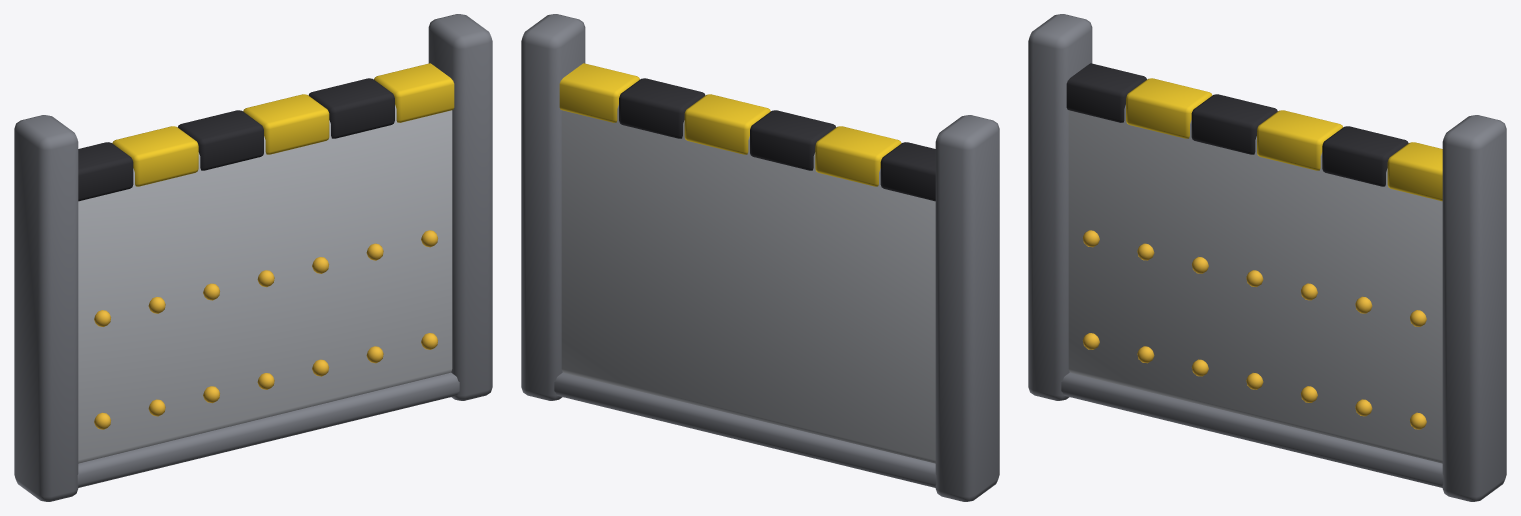
File: WallSegment.glb
3 views of the same model, side by side, from view 1: azimuth 30°, elevation 25°; view 2: azimuth 150°, elevation 25°; view 3: azimuth 330°, elevation 25° (orthographic).
Parts seen in each view (by area): view 1: WallSegment; view 2: WallSegment; view 3: WallSegment.
Part boxes in pixels (x1,y1,x2,y2): WallSegment: (14, 14, 492, 501); WallSegment: (521, 14, 999, 501); WallSegment: (1028, 14, 1506, 501).
Size of the model in its own units: 2.08 by 1.6 by 0.265.
